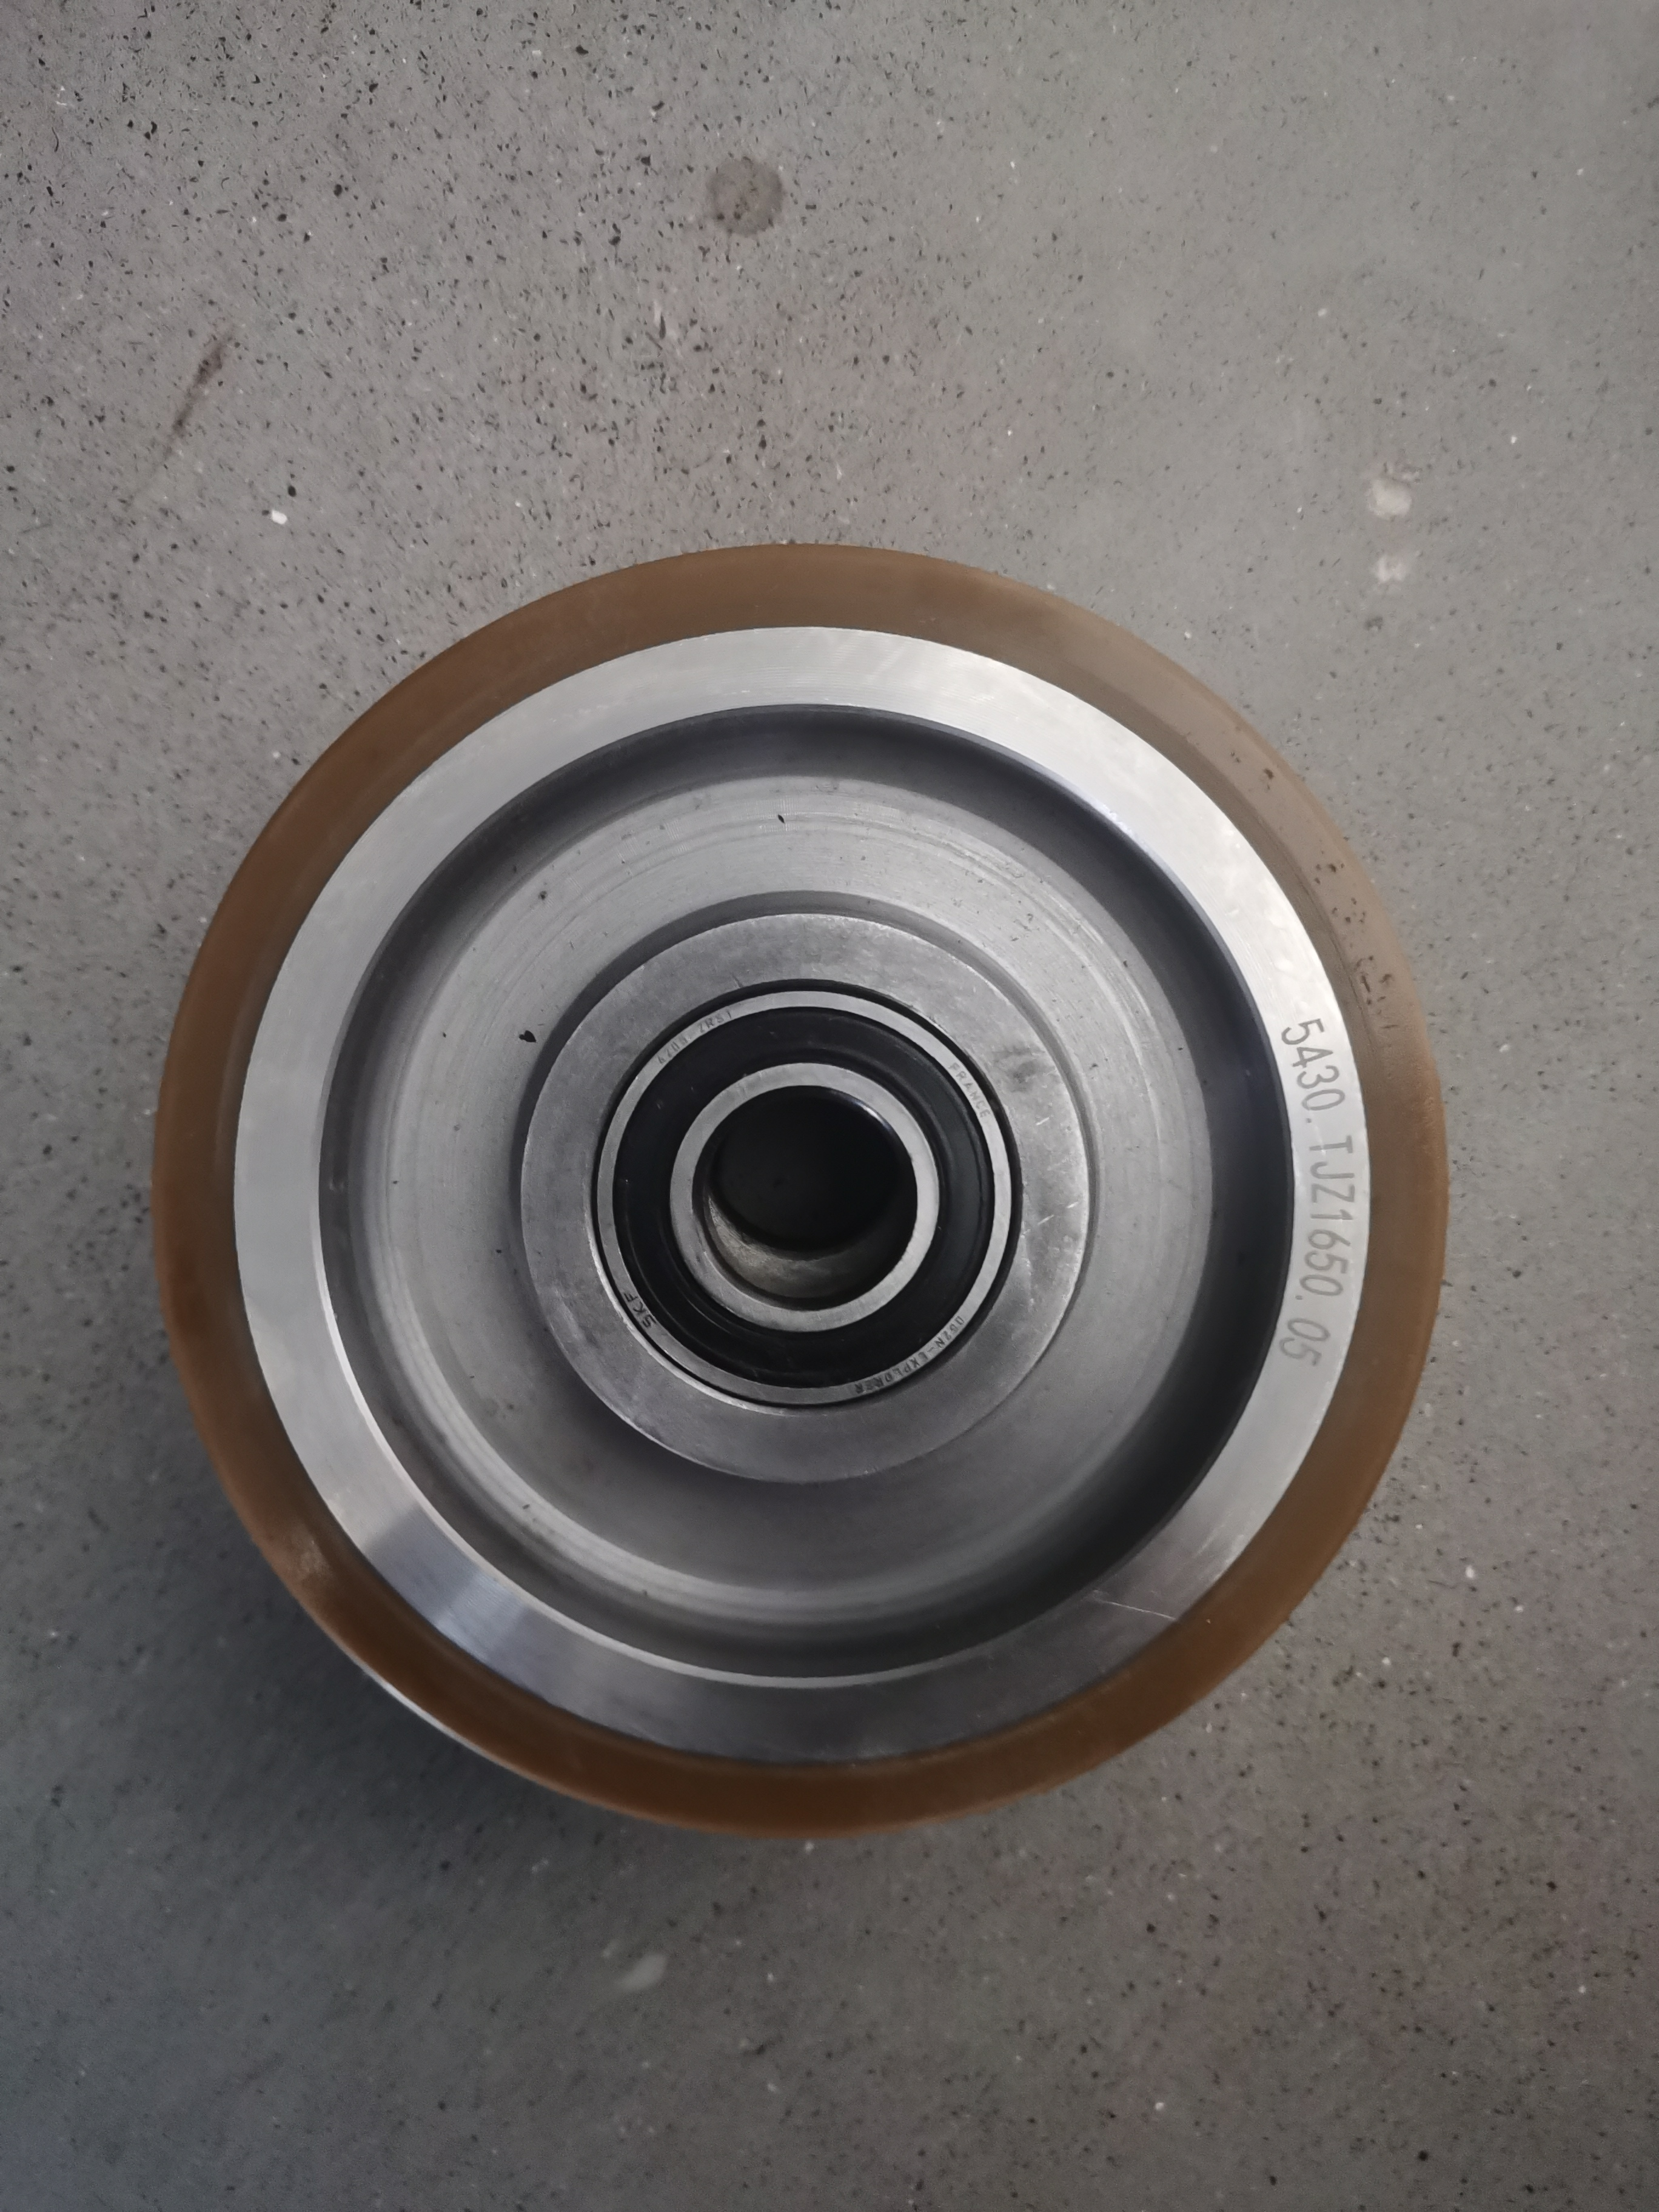good_wheel: (105, 491, 1459, 1851)
